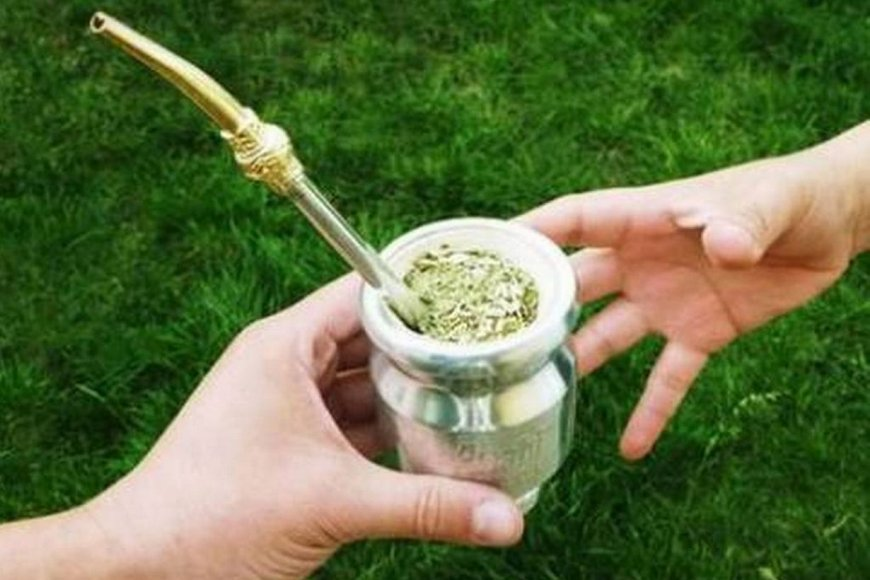guampa: (76, 13, 584, 529)
